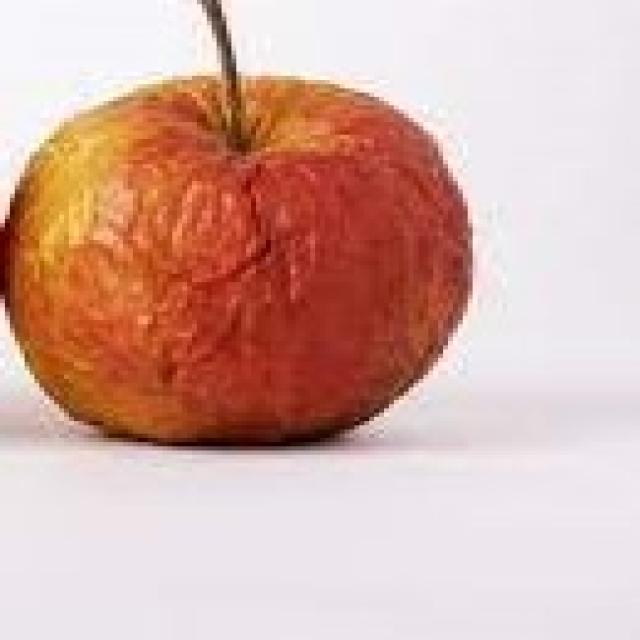overripe: (0, 68, 480, 450)
